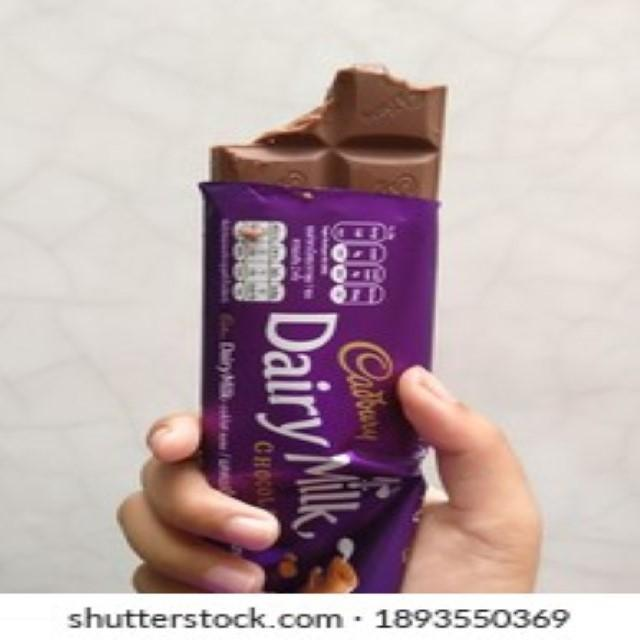cadbury_chocolate: (212, 190, 423, 595)
